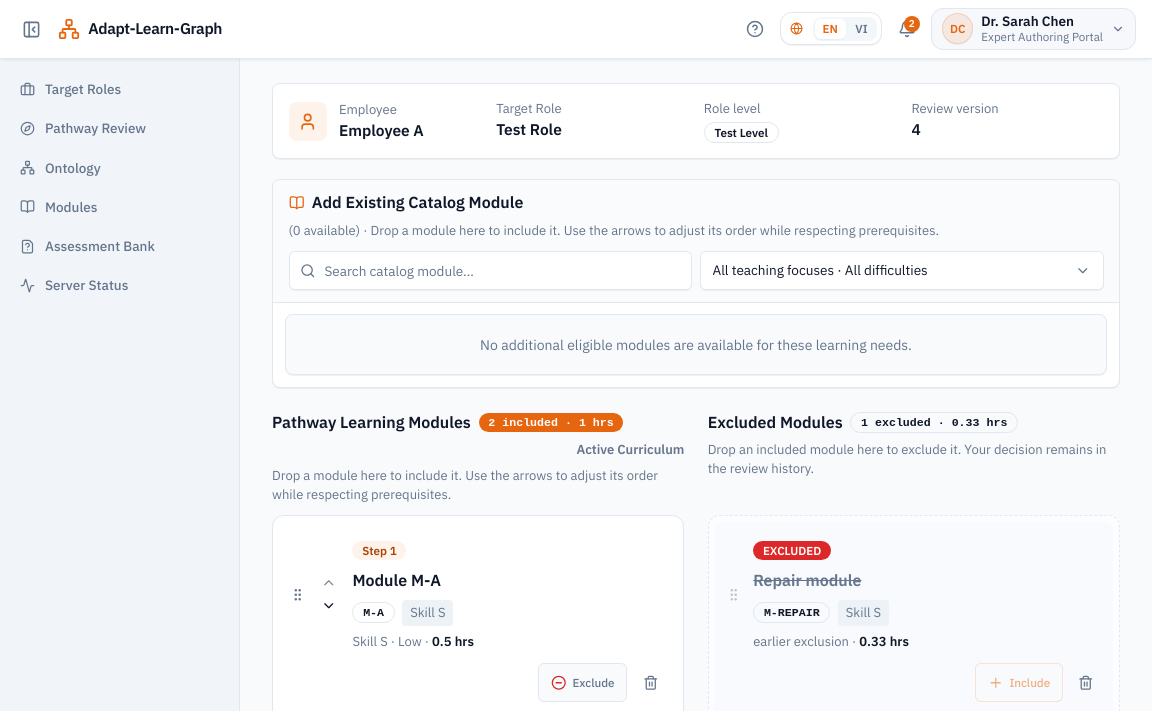
Test: REQ-019/020 C3 component: ORG-A assigned Expert, independent fixture › R06 Remove from Excluded returns to Catalog only while eligible=false
Expected: the text "Employee A" is shown, [339, 119, 424, 142]
Expected: the button "Include" is disabled, [975, 663, 1063, 702]
Click the button named "Remove module" below "earlier exclusion" at (1086, 682), box [1071, 667, 1102, 698]
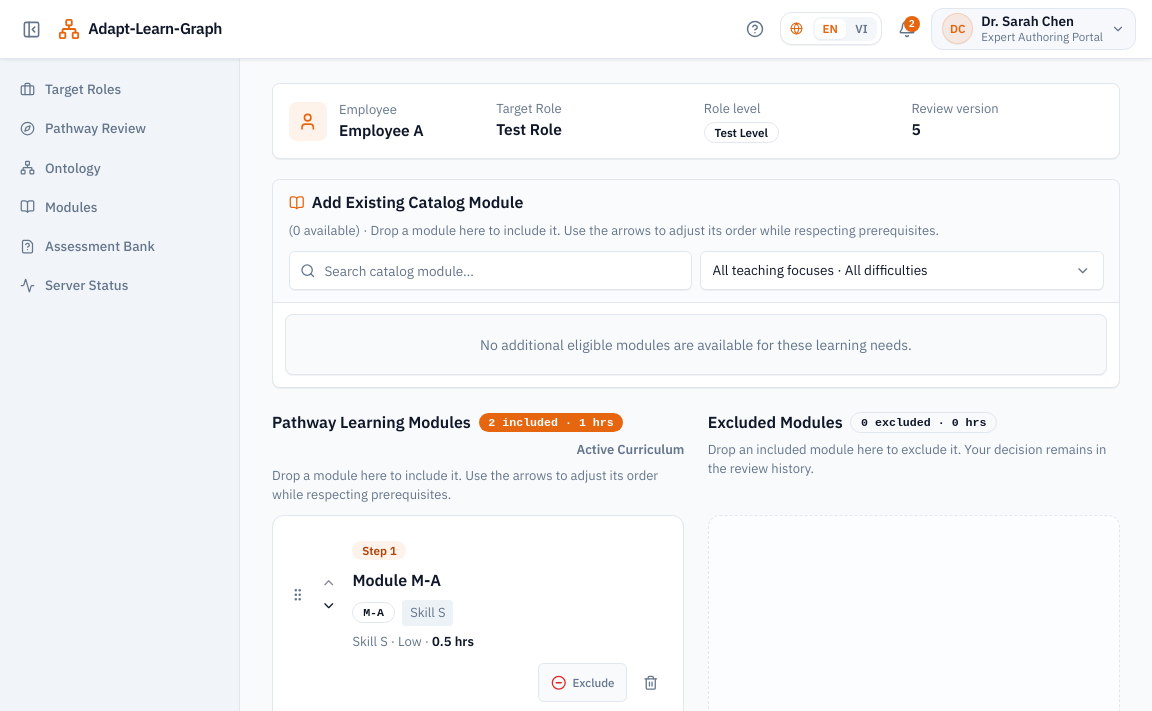
Result: the text "M-REPAIR" is gone
